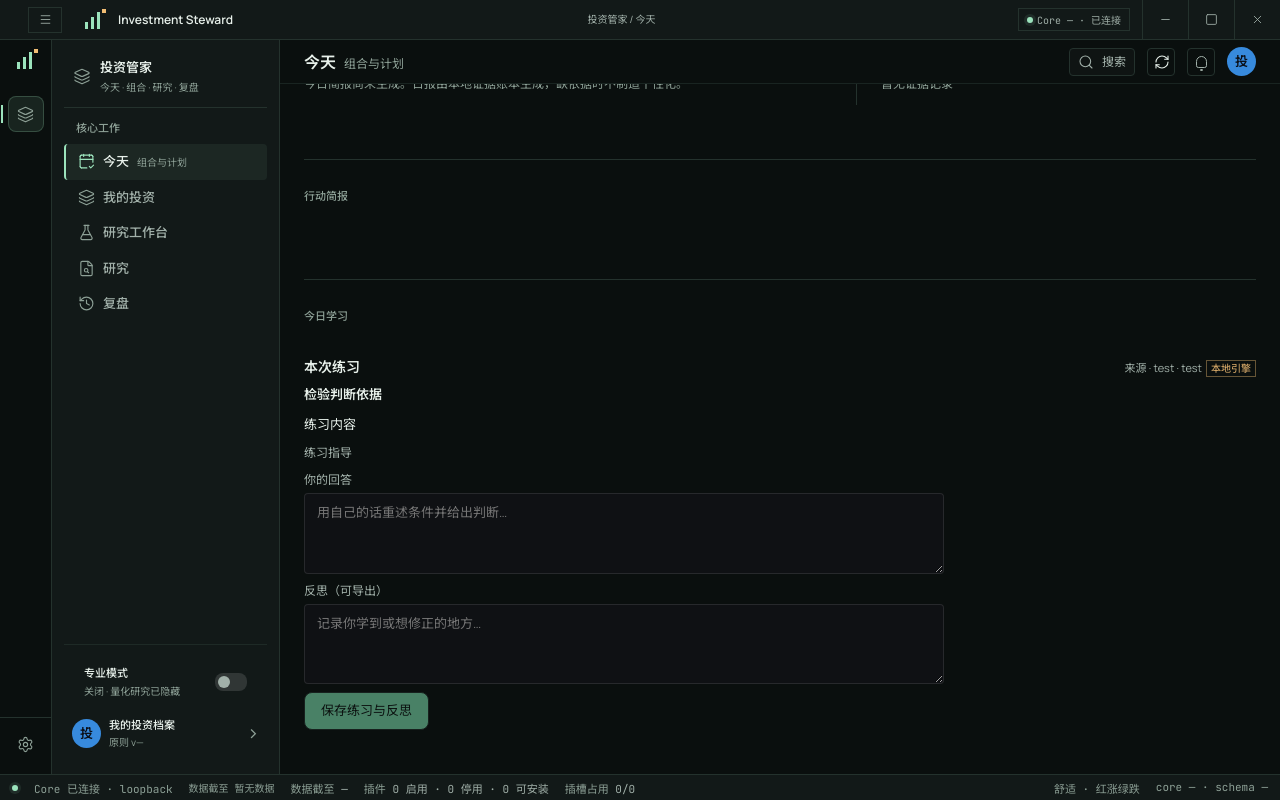
Test: AppShell 启动分层（A02 · 前端设计与架构优化任务路线图 2026-09-19） › 学习保存后直接复盘，不依赖刷新：保存 201，进度 200
This screenshot has width=1280, height=800.
(page scrolled)
Type "先核对来源" into the text box labelled "你的回答".
click(624, 534); type("先核对来源")  # box [304,493,944,574]
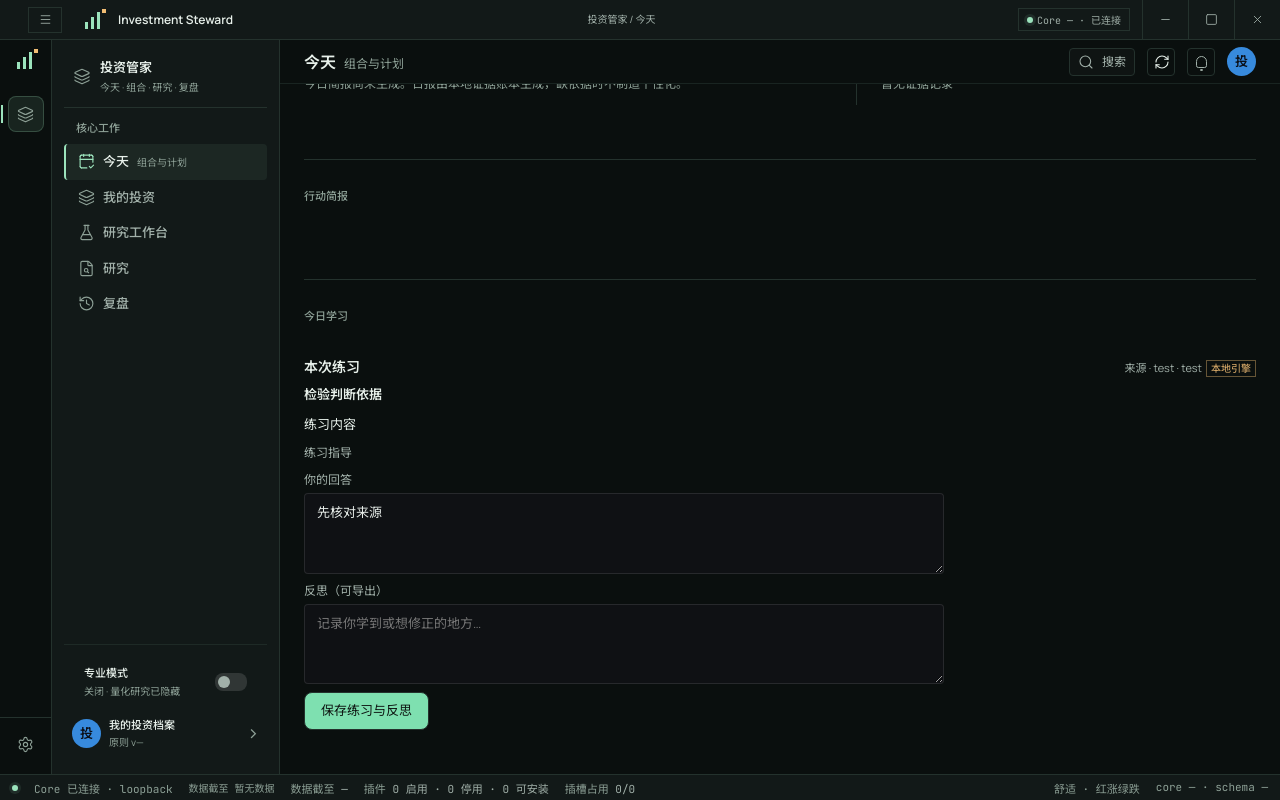
Type "下次核对期间" into the text box labelled "反思（可导出）".
click(624, 644); type("下次核对期间")  # box [304,604,944,684]
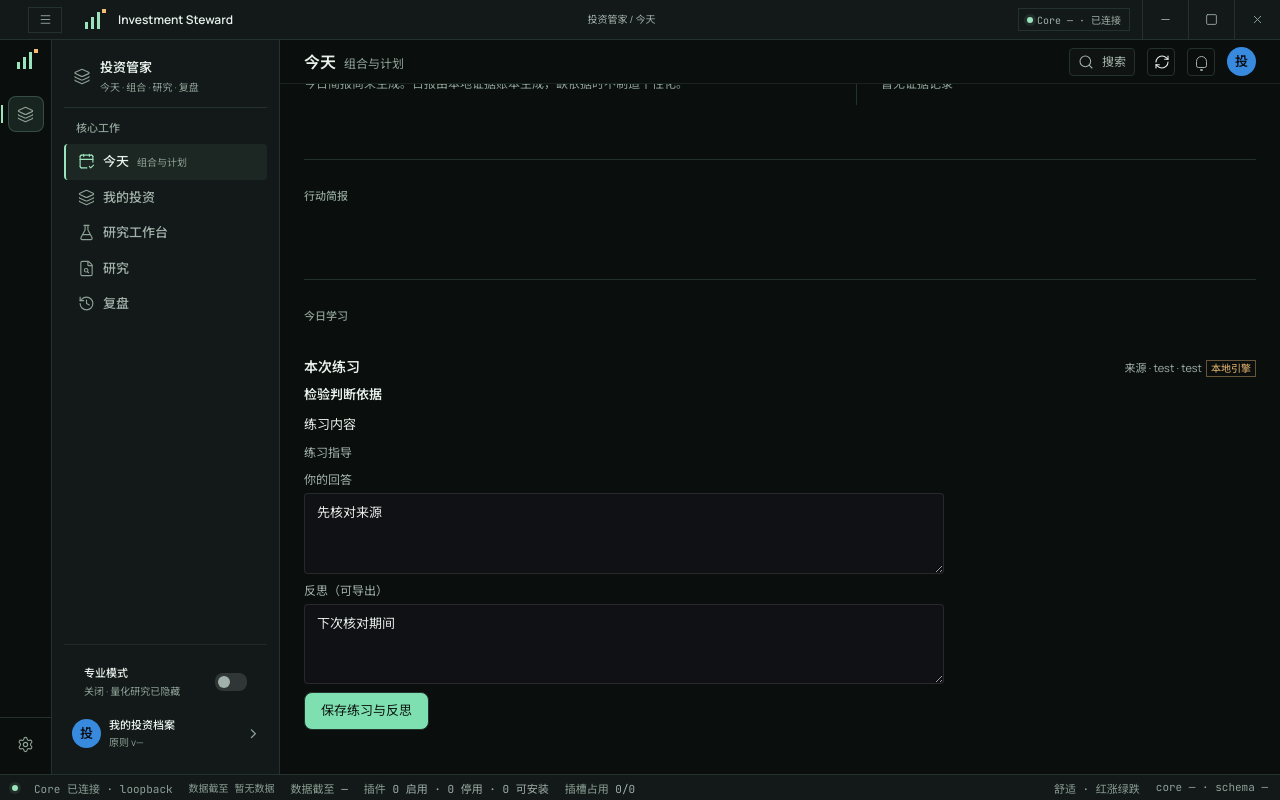
Click the button "保存练习与反思".
click(366, 711)  # box [304,692,429,730]
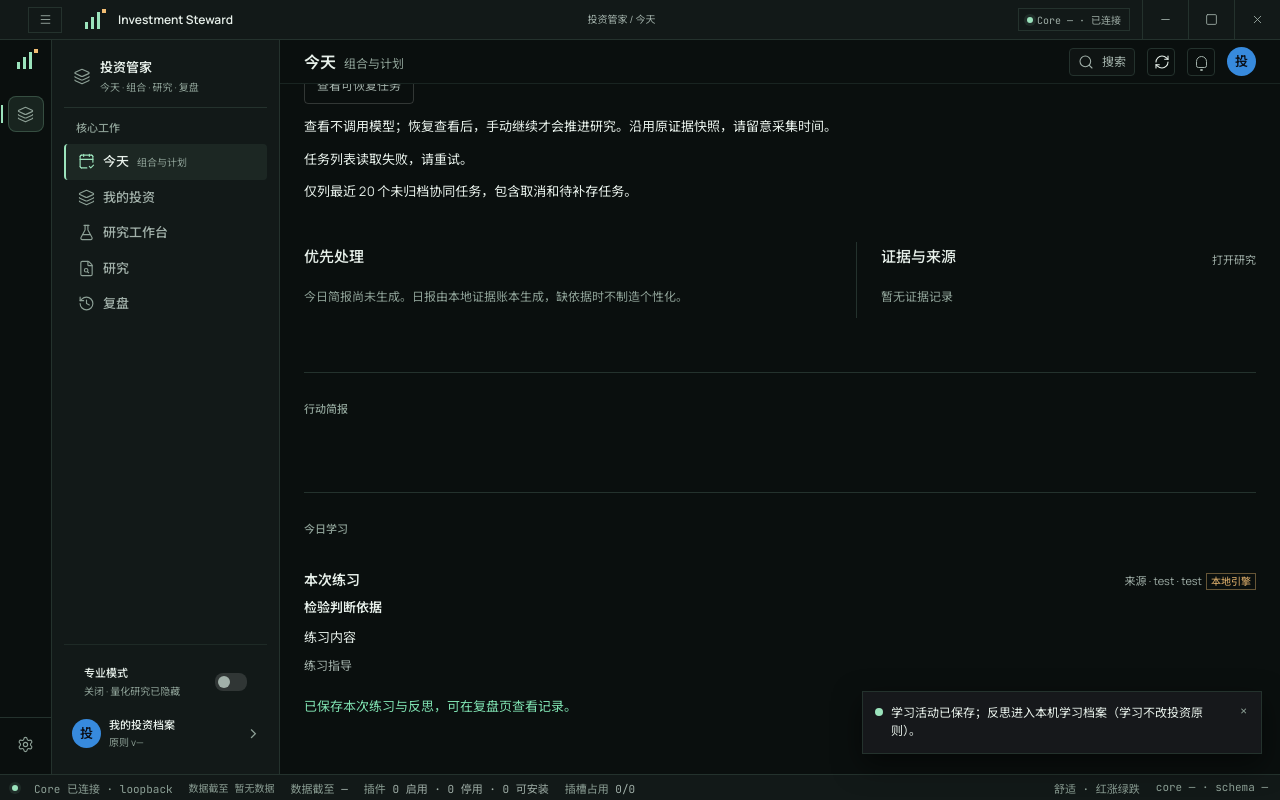
Expected: the text "已保存本次练习与反思，可在复盘页查看记录。" is shown, [304,697,577,715]
Click the button "复盘".
click(166, 304)  # box [64,286,267,322]
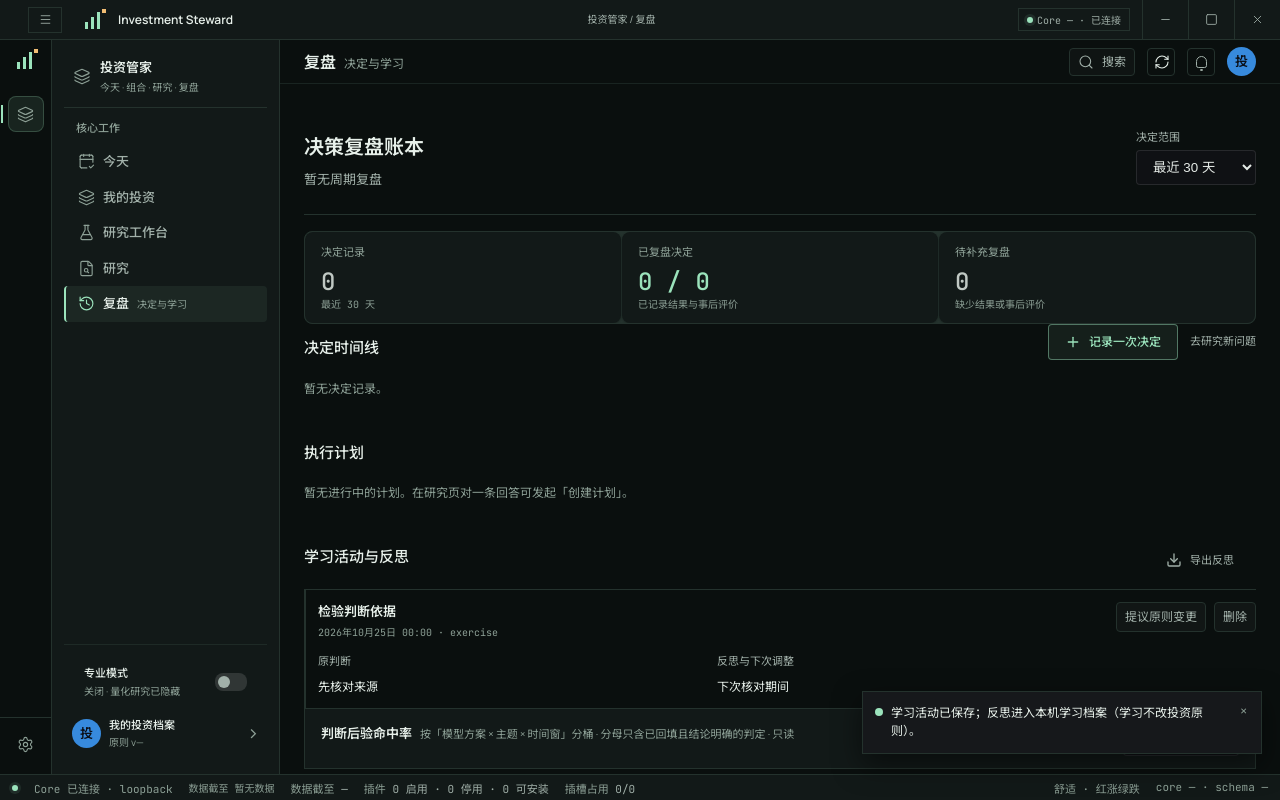
Expected: the heading "学习活动与反思" is shown, [304,546,409,569]
Expected: the text "先核对来源" is shown, [318,678,378,695]
Expected: the text "下次核对期间" is shown, [717,678,789,695]
